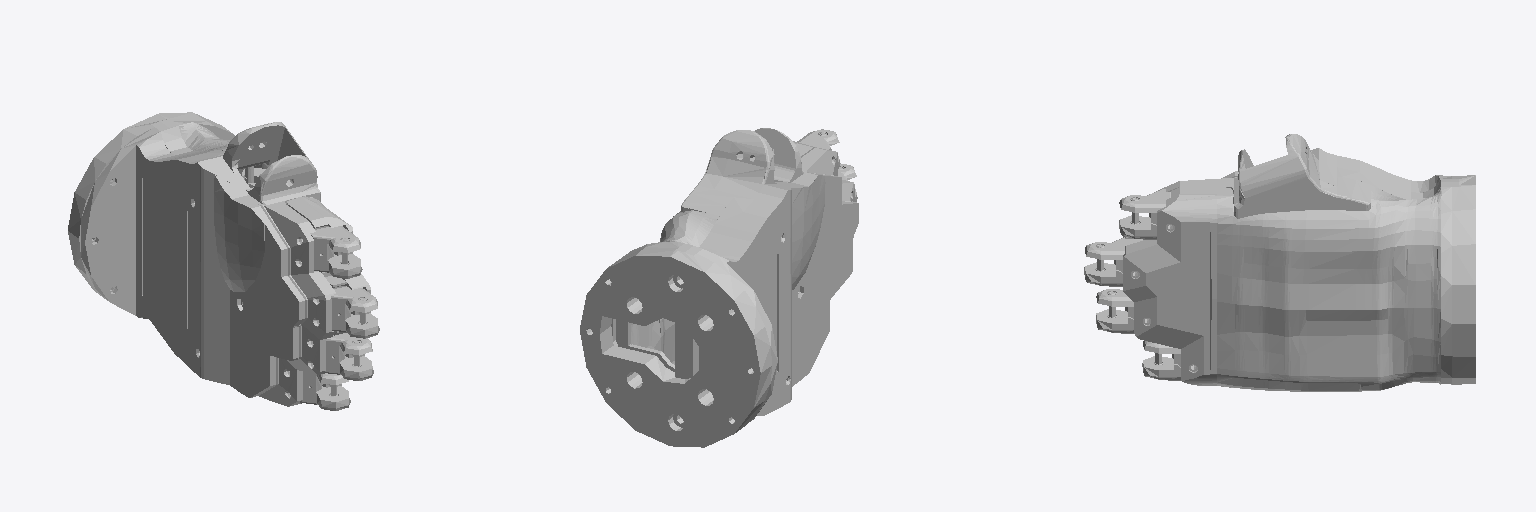
Rendered from palm_l.obj.
3 views of the same model, side by side, from view 1: azimuth 30°, elevation 25°; view 2: azimuth 150°, elevation 25°; view 3: azimuth 270°, elevation 25° (orthographic).
Size of the model in its own units: 0.09 by 0.1187 by 0.1684.